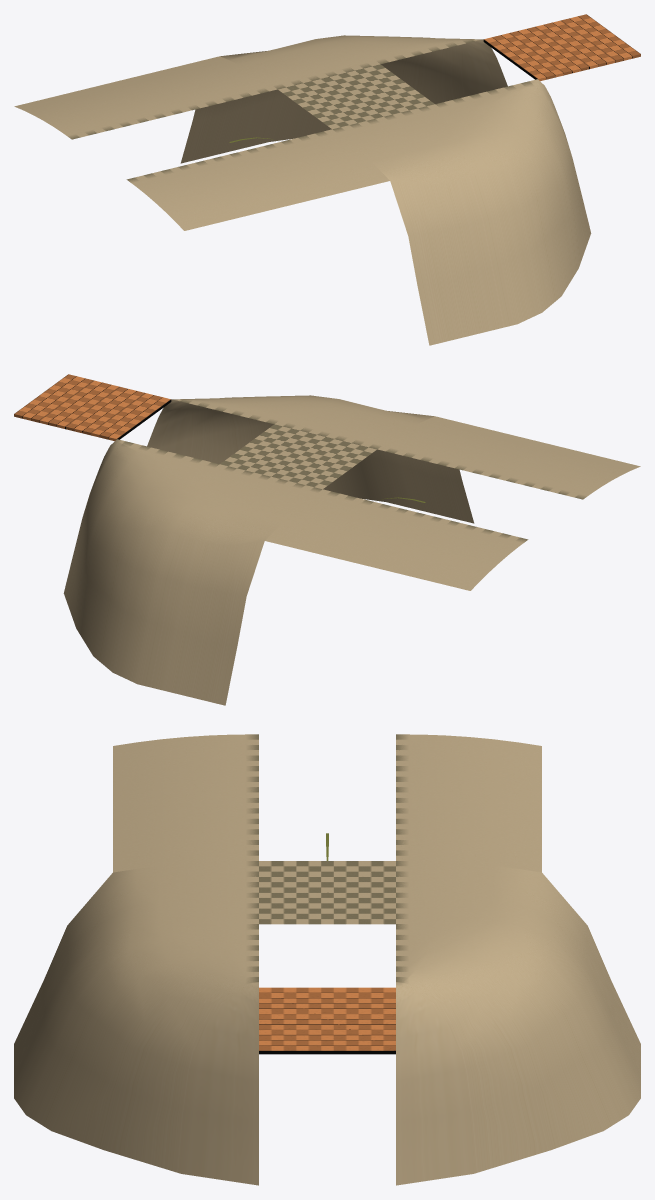
Rendered from bridgeworld.glb.
3 views of the same model, one above another, from view 1: azimuth 30°, elevation 25°; view 2: azimuth 150°, elevation 25°; view 3: azimuth 270°, elevation 25° (orthographic). The views are drawn at different scales.
Parts seen in each view (by area): view 1: field_beach_hill, field_beach_grass, tile_bridge, tile_beach; view 2: field_beach_hill, field_beach_grass, tile_bridge, tile_beach; view 3: field_beach_hill, field_beach_grass, tile_bridge, tile_beach.
Part boxes in pixels (x1,y1,x2,y2): field_beach_hill: [180, 35, 591, 345]; field_beach_grass: [14, 56, 389, 230]; tile_bridge: [483, 14, 640, 81]; tile_beach: [278, 64, 434, 129]; field_beach_hill: [63, 395, 474, 705]; field_beach_grass: [265, 416, 640, 590]; tile_bridge: [14, 374, 171, 441]; tile_beach: [220, 424, 376, 489]; field_beach_hill: [14, 861, 640, 1185]; field_beach_grass: [113, 734, 541, 872]; tile_bridge: [259, 987, 395, 1054]; tile_beach: [259, 861, 395, 924].
Bounding box in the file's own units: 120 × 32.39 × 101.
4 materials, 3 textured.
